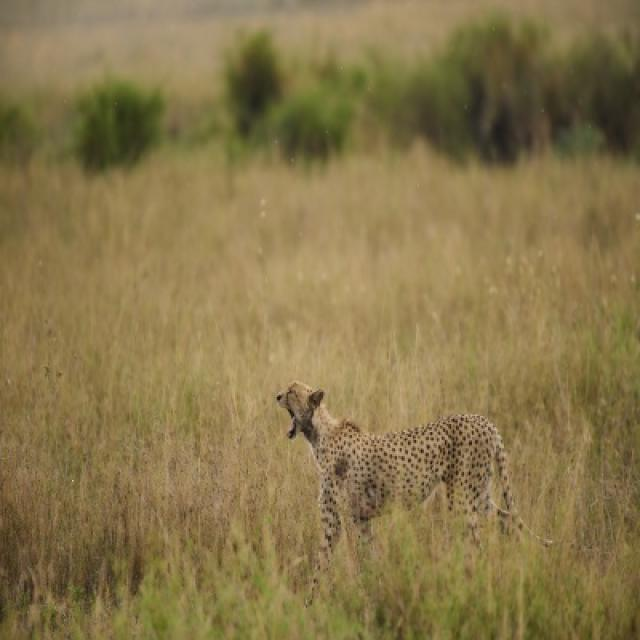Cheetah: (277, 386, 515, 568)
